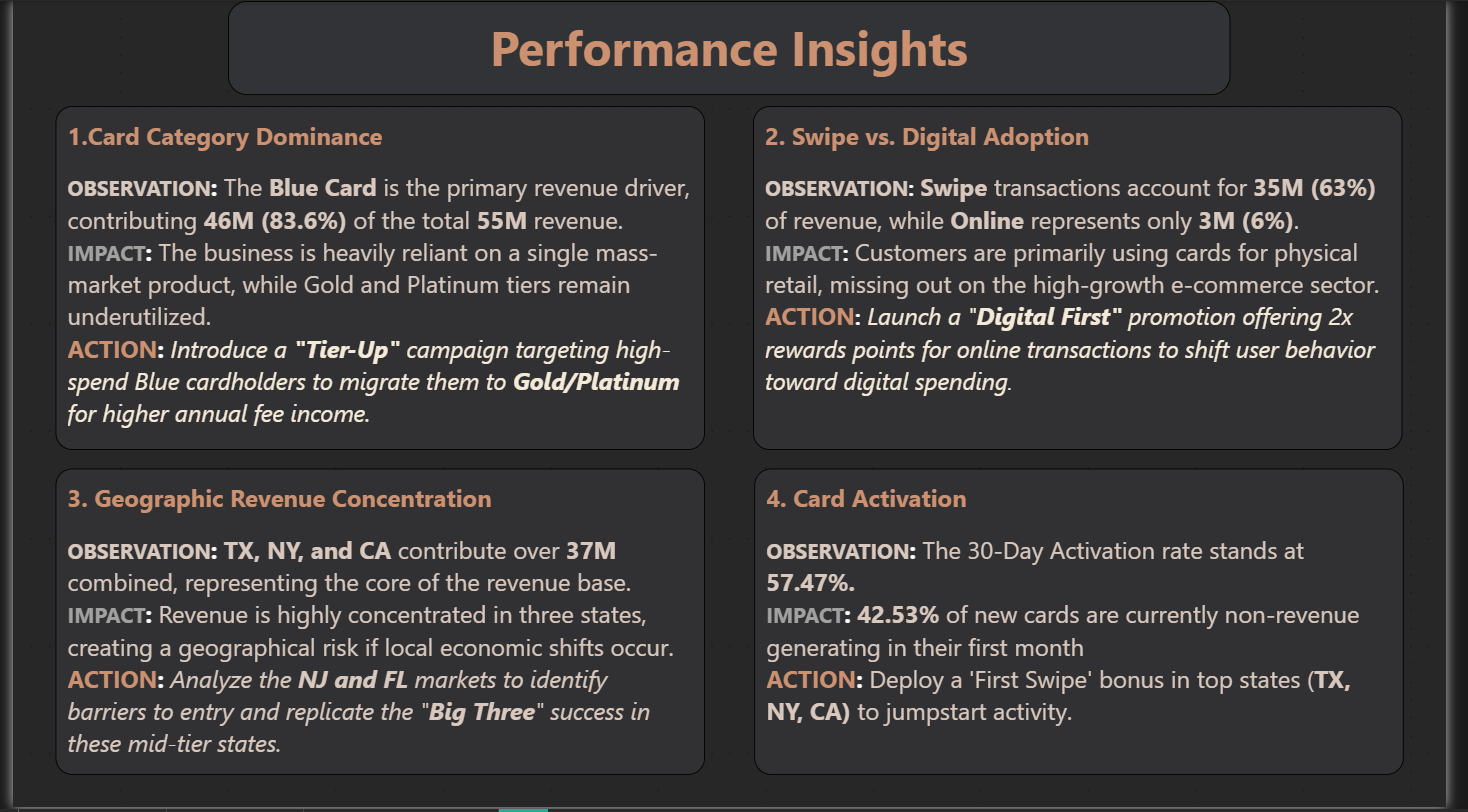

The page's visual inventory and layout, read from the dashboard file:
{"tool":"powerbi","page":{"name":"Performance Insights","canvas":[1280,720],"ordinal":2},"visuals":[{"type":"textbox","box":[37.5,93.8,580,307.5],"z":0},{"type":"textbox","box":[192.5,0,895,83.8],"z":1000},{"type":"textbox","box":[661.2,93.8,580,307.5],"z":2000},{"type":"textbox","box":[37.5,417.5,580,273.8],"z":2000,"group":"g1"},{"type":"group","id":"g1","title":"Group 2","box":[37.5,417.5,1203.8,273.8],"z":3000},{"type":"textbox","box":[661.3,417.5,580,273.8],"z":3000,"group":"g1"}]}

Visuals, with their boxes in screenshot pixels (x1, y1, x2, y2), scaled from the page's 1280x720 canvas onto the 1468x812 screenshot:
textbox: locate(43, 106, 708, 453)
textbox: locate(221, 0, 1247, 95)
textbox: locate(758, 106, 1424, 453)
textbox: locate(43, 471, 708, 780)
"Group 2" group: locate(43, 471, 1424, 780)
textbox: locate(758, 471, 1424, 780)
